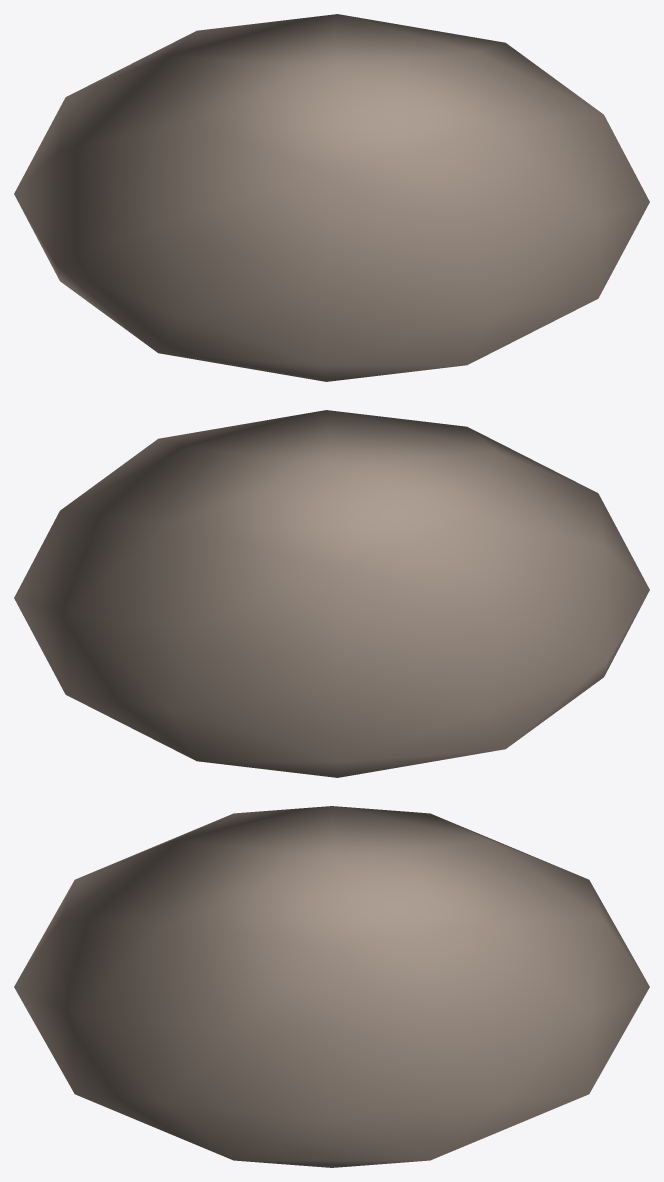
Rendered from plant_tomato_seed.glb.
The picture shows the model from 3 angles, top to bottom: view 1: azimuth 30°, elevation 25°; view 2: azimuth 150°, elevation 25°; view 3: azimuth 270°, elevation 25°; orthographic projection.
Parts seen in each view (by area): view 1: mound; view 2: mound; view 3: mound.
Boxes of the visible parts, x1,y1,x2,y2 form: mound: [14, 14, 649, 381]; mound: [14, 410, 649, 777]; mound: [14, 806, 649, 1167].
Bounding box in the file's own units: 0.08 × 0.036 × 0.08.
